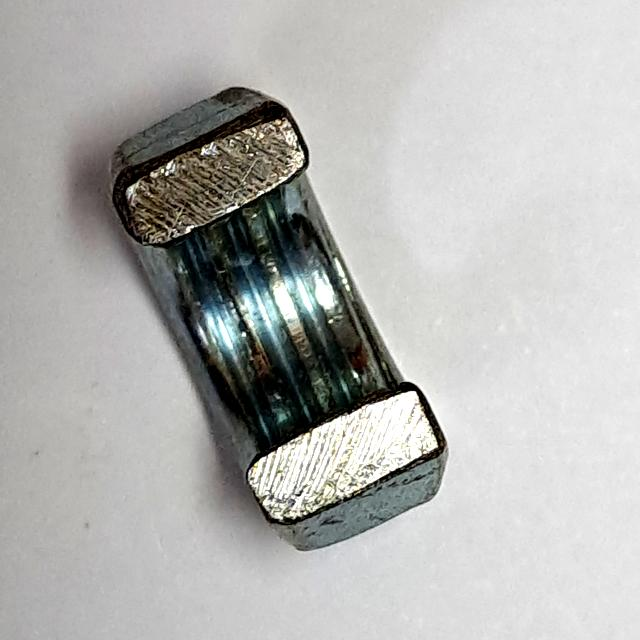Side-Fracture: (87, 62, 466, 575)
